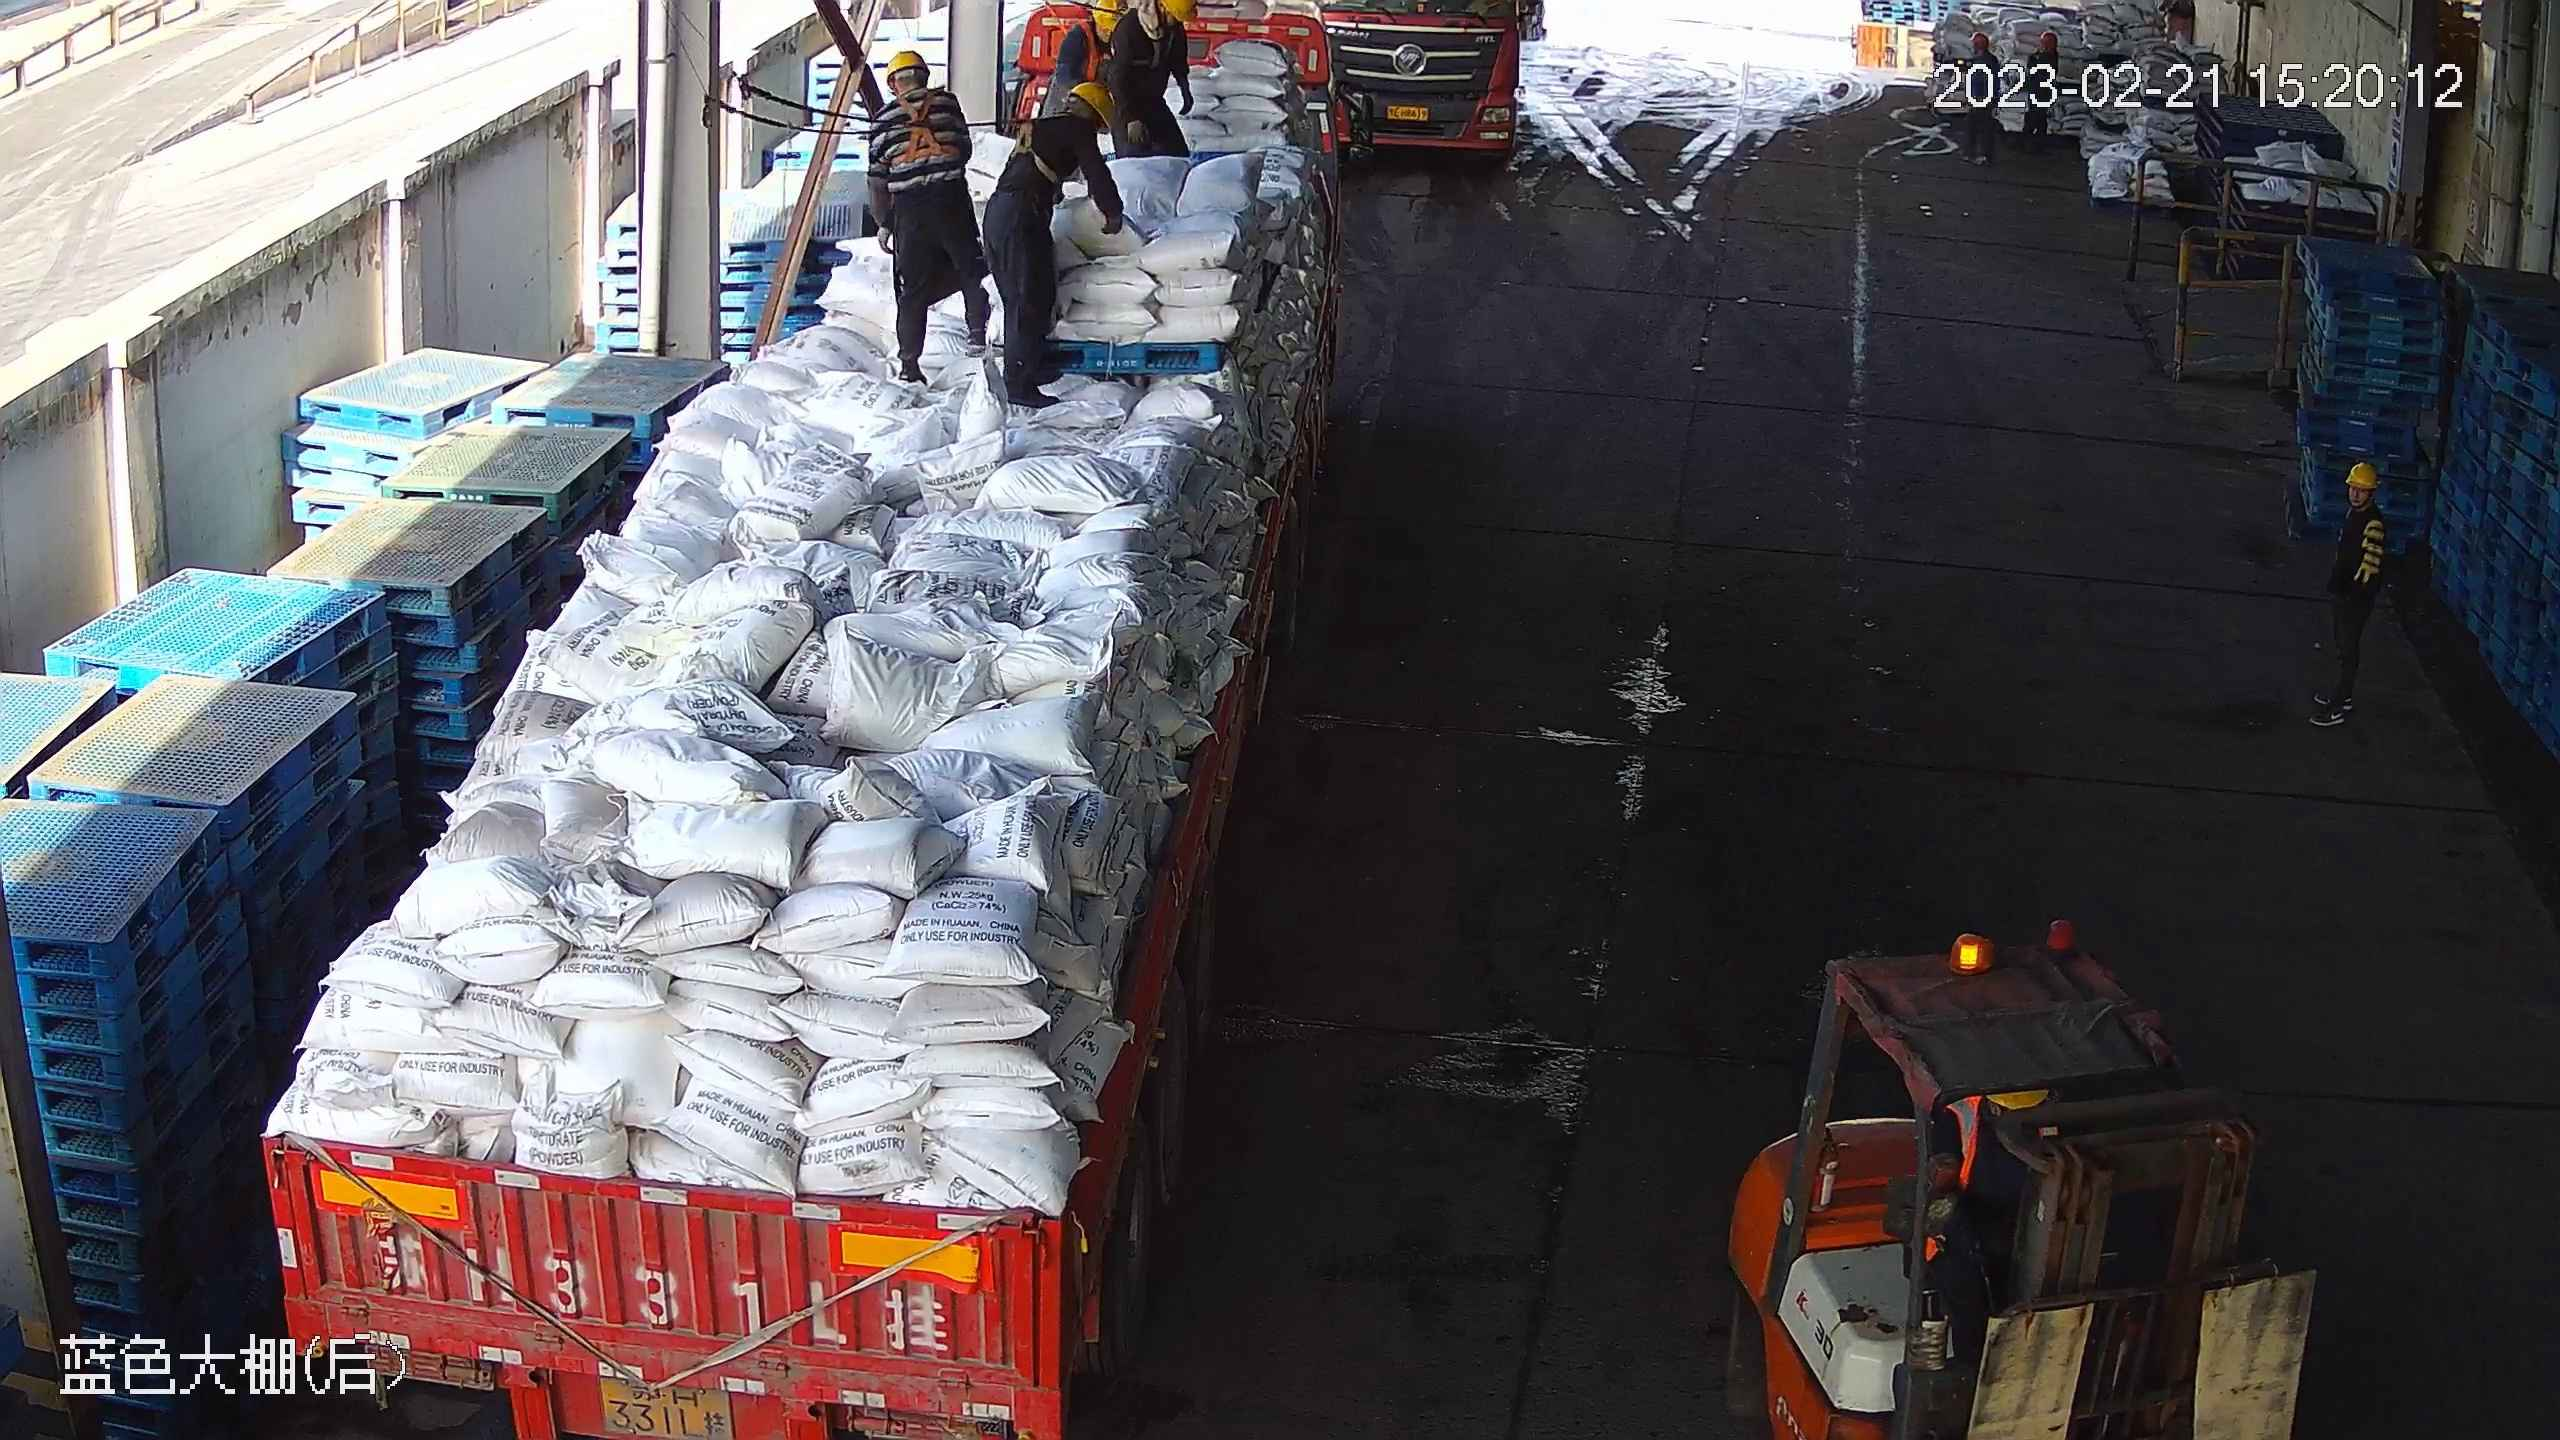belt: (886, 92, 969, 169), (1001, 115, 1068, 190), (1078, 25, 1118, 90), (1145, 22, 1176, 64)
head: (984, 71, 1118, 180), (864, 54, 973, 165), (1108, 1, 1194, 76)
helmet: (1076, 80, 1126, 129), (884, 50, 926, 81), (1089, 3, 1126, 29)
people: (988, 71, 1120, 406), (862, 49, 990, 377)
truck: (229, 3, 1344, 1440), (1305, 1, 1544, 186)
